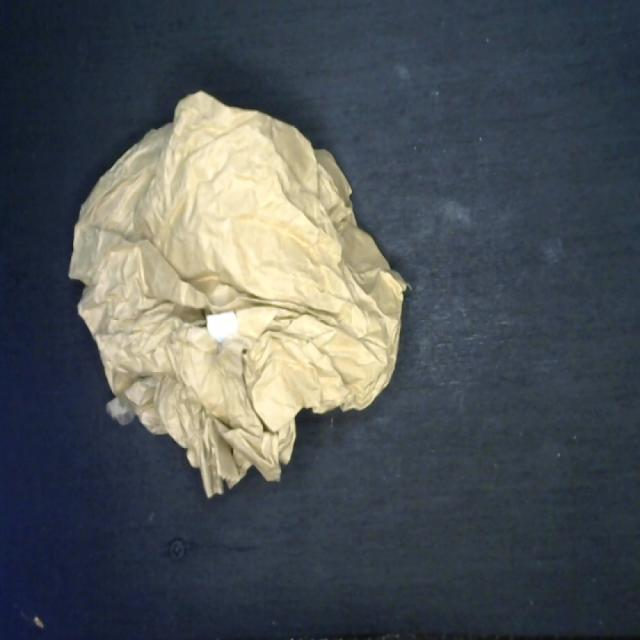biodegradable: (63, 85, 413, 509)
